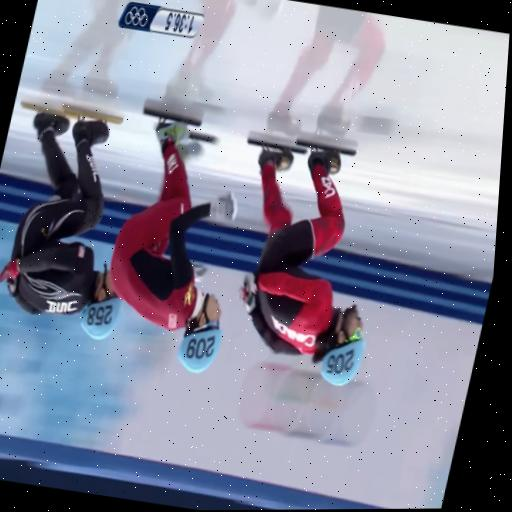Skater: (110, 120, 235, 371), (242, 148, 364, 384), (0, 112, 120, 338)
